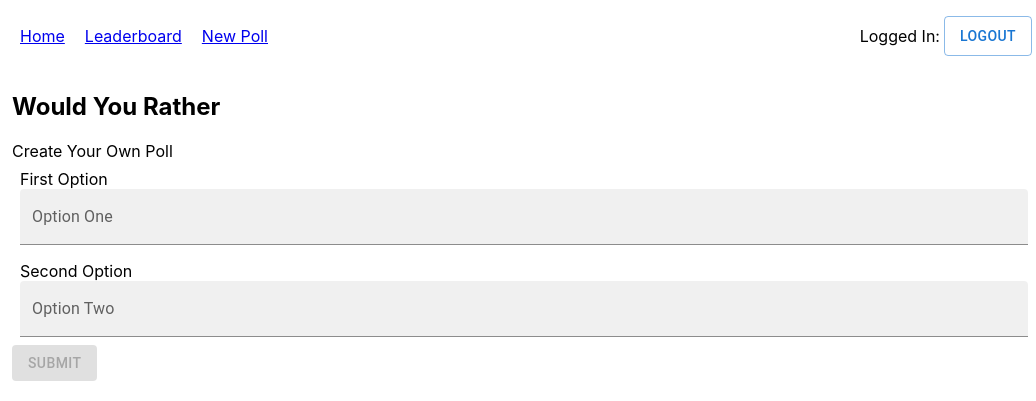
Test case: PollCreator › will enable the submit button if both options are entered
Type "First Option" into the field with test id "option-one-input".
click(524, 217); type("First Option")  # box [20,189,1028,245]
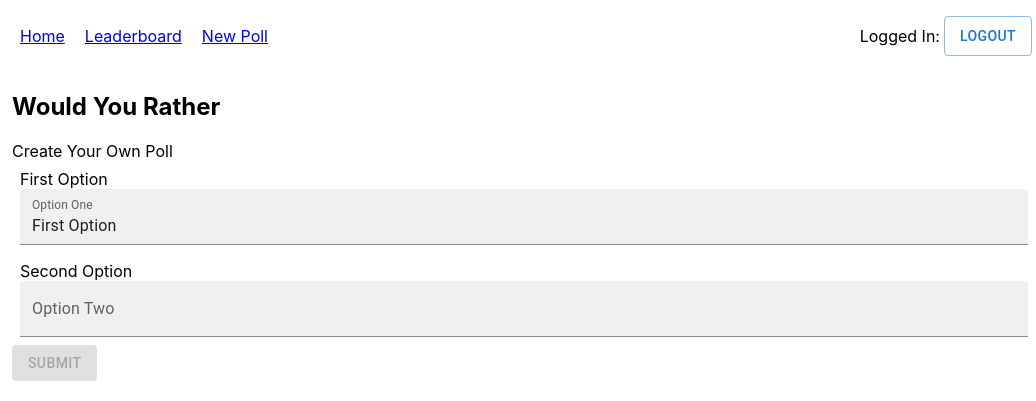
Type "Second Option" into the field with test id "option-two-input".
click(524, 309); type("Second Option")  # box [20,281,1028,337]
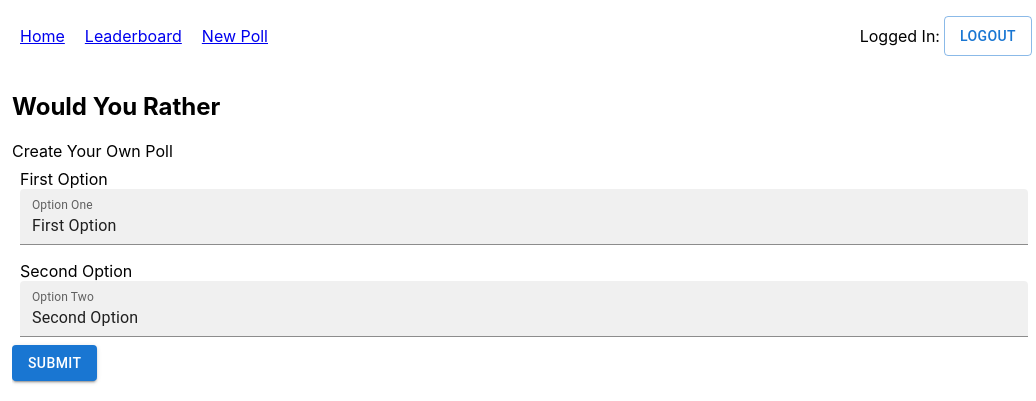
Expected: the button with test id "submit-button" is enabled, [12,345,97,381]
